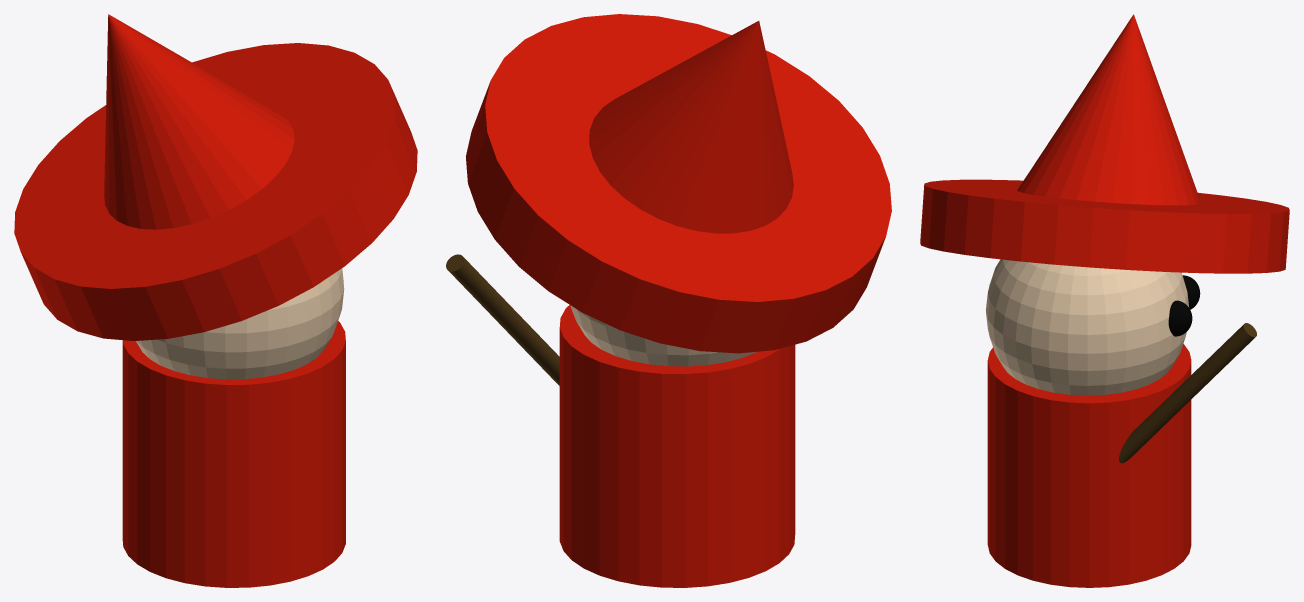
File: wizord_red.glb
The picture shows the model from 3 angles, left to right: view 1: azimuth 30°, elevation 25°; view 2: azimuth 150°, elevation 25°; view 3: azimuth 270°, elevation 25°; orthographic projection. The views are drawn at different scales.
Parts seen in each view (by area): view 1: Cylinder.001, Cylinder, Cone, Sphere; view 2: Cylinder.001, Cylinder, Cone, Sphere, Cylinder.002; view 3: Cylinder, Cylinder.001, Sphere, Cone, Cylinder.002, Sphere.002.
Part boxes in pixels (x1,y1,x2,y2): Cylinder.001: (14, 43, 417, 340); Cylinder: (122, 321, 345, 587); Cone: (104, 14, 294, 229); Sphere: (136, 268, 344, 379); Cylinder.001: (466, 14, 891, 353); Cylinder: (559, 305, 795, 587); Cone: (589, 21, 793, 233); Sphere: (570, 305, 756, 366); Cylinder.002: (446, 254, 559, 385); Cylinder: (987, 344, 1191, 587); Cylinder.001: (920, 179, 1289, 273); Sphere: (986, 259, 1188, 395); Cone: (1017, 14, 1200, 205); Cylinder.002: (1119, 323, 1256, 463); Sphere.002: (1168, 300, 1192, 336).
Size of the model in its own units: 3.57 by 5.26 by 3.63.
